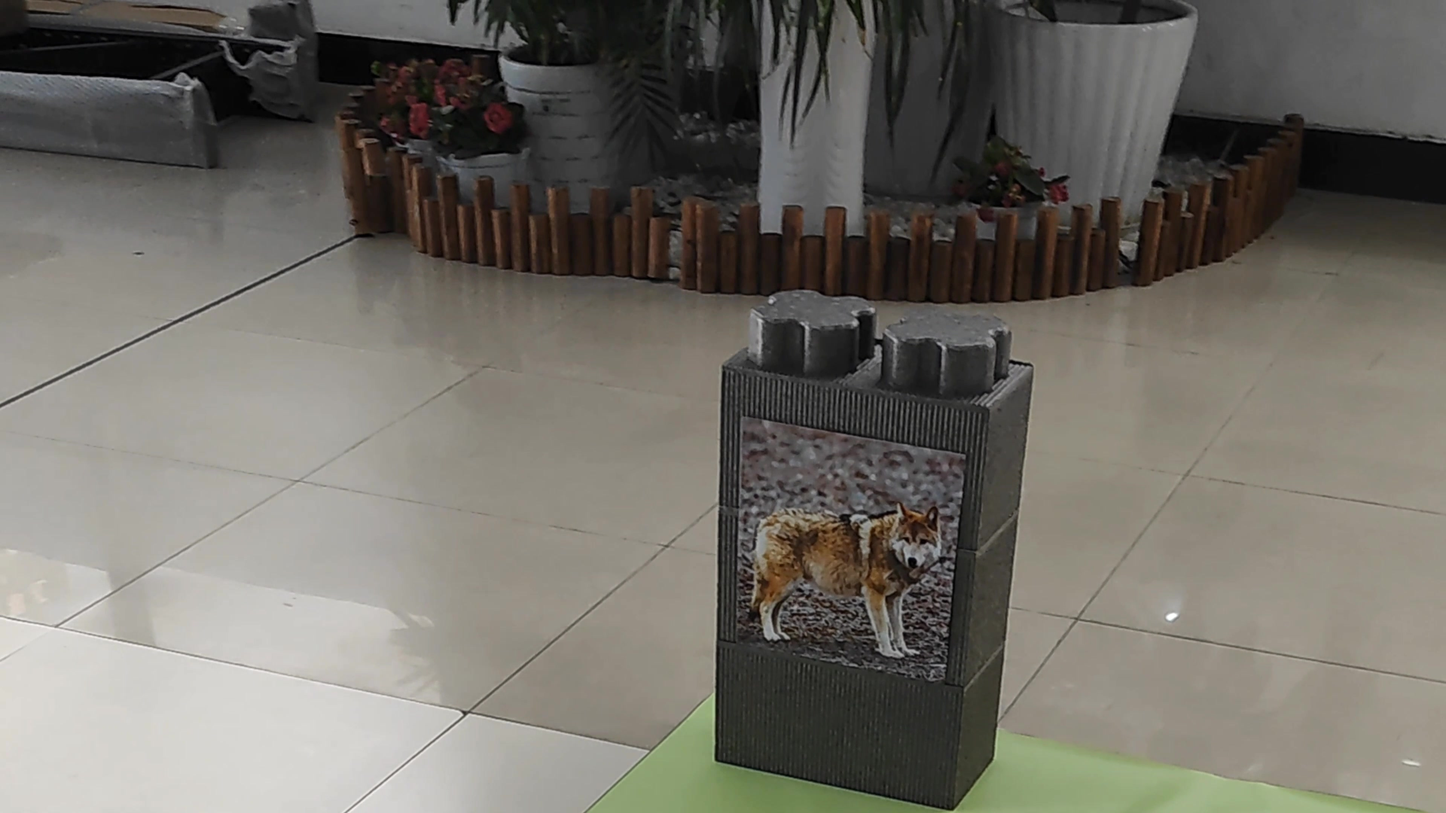wolf: (723, 465, 953, 675)
